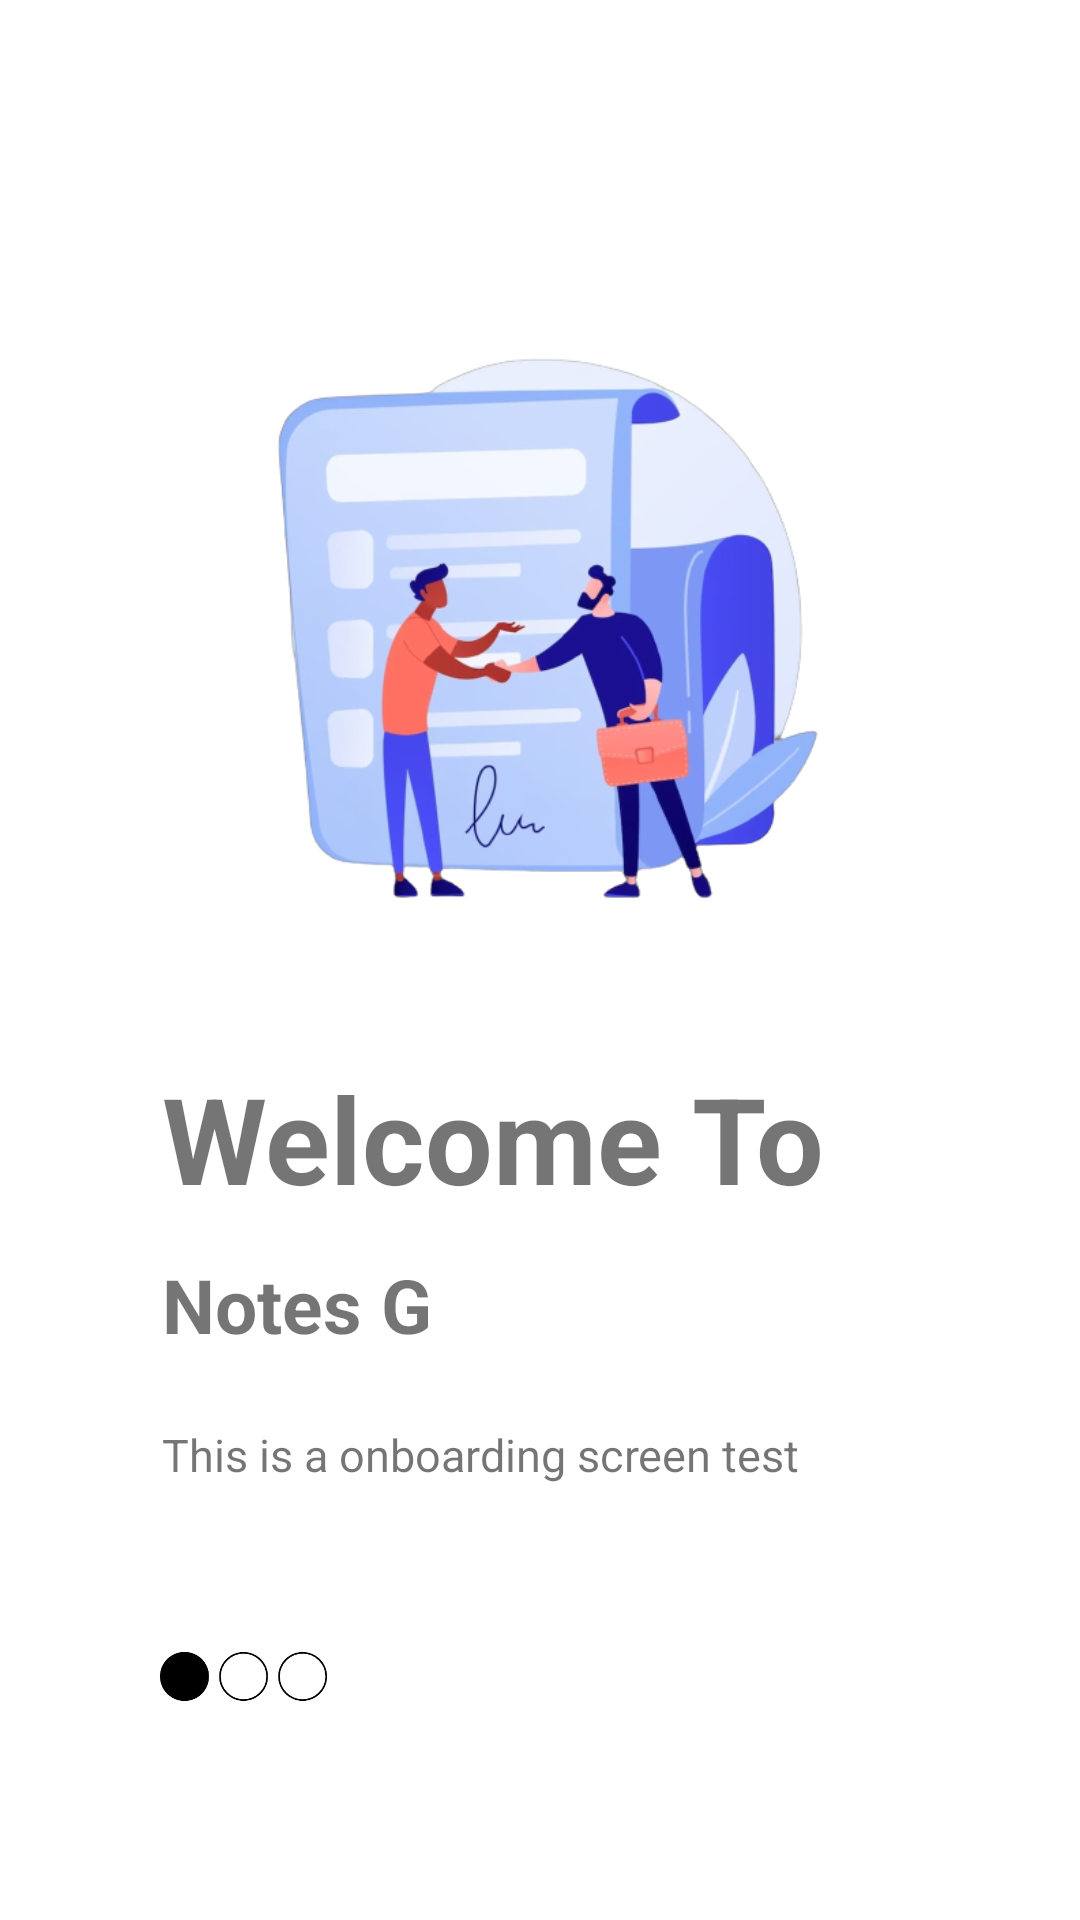

Icon bounding boxes for this 1080×1920 phone screenshot, format box=[x1, y1, x2, y2]:
onboardnav: box=[160, 1652, 327, 1701]
